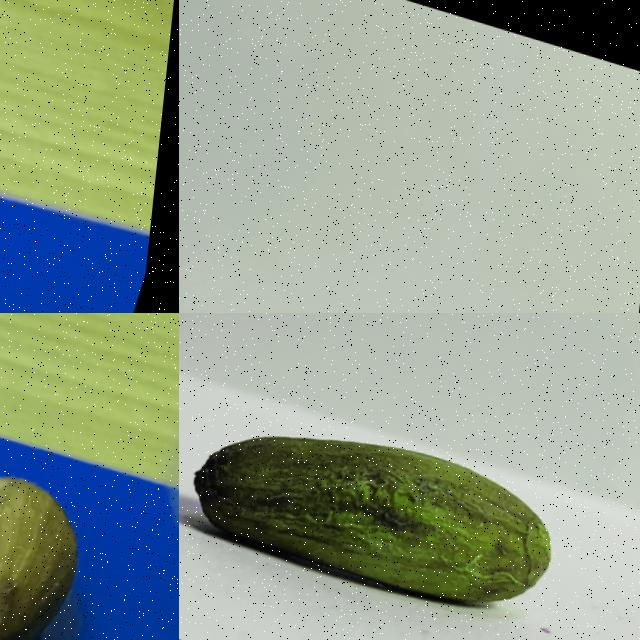Fine_cocoabeans: (179, 355, 639, 639), (0, 412, 178, 639), (0, 101, 55, 312)
